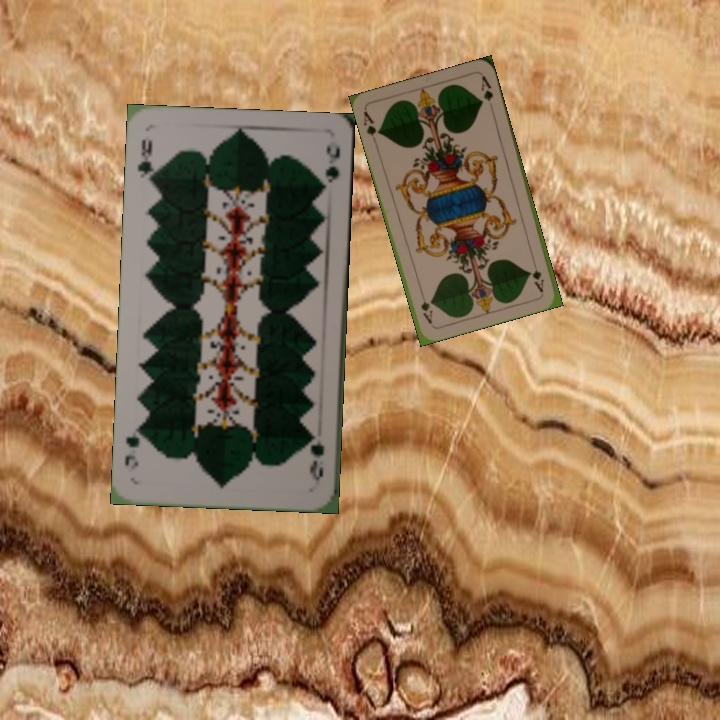G9: (133, 135, 158, 189), (305, 428, 327, 483)
GA: (359, 107, 383, 146), (528, 254, 546, 295)
